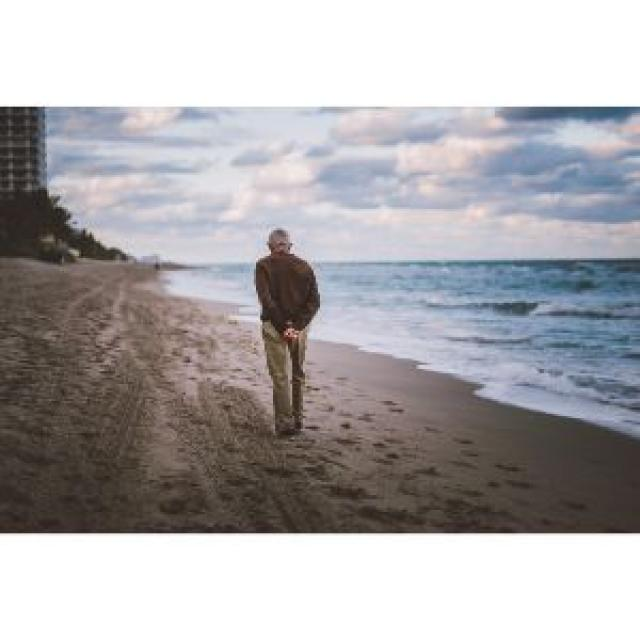nonfall: (244, 218, 349, 452)
